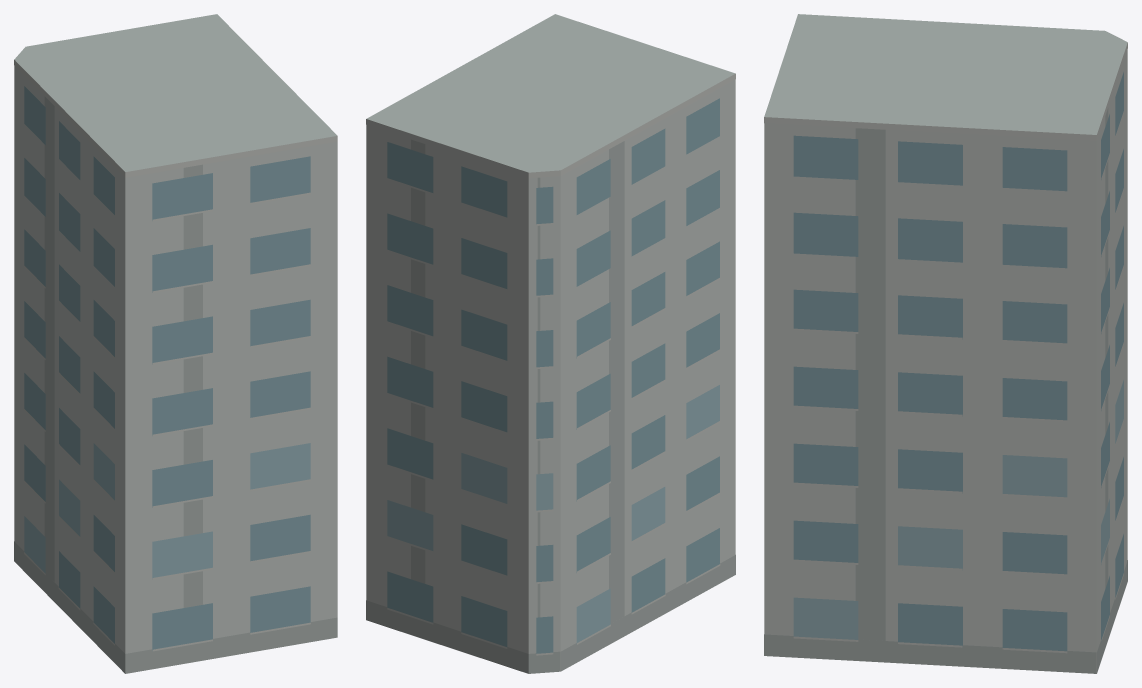
Rendered from survey-upis-32911545.glb.
The picture shows the model from 3 angles, left to right: view 1: azimuth 30°, elevation 25°; view 2: azimuth 150°, elevation 25°; view 3: azimuth 270°, elevation 25°; orthographic projection. The views are drawn at different scales.
Visible parts, largest first — view 1: survey-upis-32911545.tmp; view 2: survey-upis-32911545.tmp; view 3: survey-upis-32911545.tmp.
Part boxes in pixels (x1,y1,x2,y2): survey-upis-32911545.tmp: (14, 14, 337, 673); survey-upis-32911545.tmp: (366, 14, 735, 673); survey-upis-32911545.tmp: (764, 14, 1127, 673).
Size of the model in its own units: 10.29 by 21.35 by 13.07.
